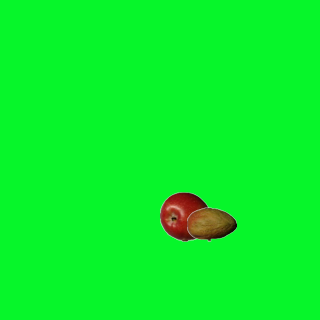Apple Braeburn: (159, 191, 209, 241)
Papaya: (186, 199, 236, 249)
